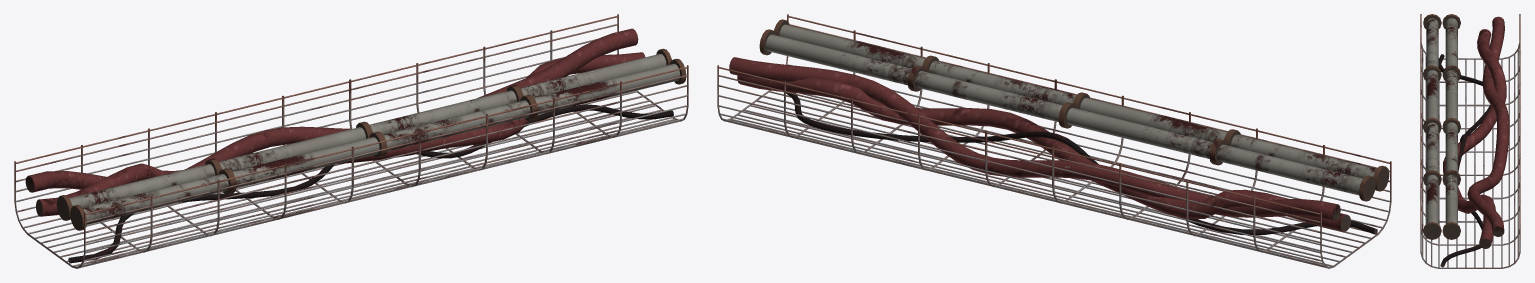
File: WallCables.fbx
3 renders of one model, left to right at view 1: azimuth 30°, elevation 25°; view 2: azimuth 150°, elevation 25°; view 3: azimuth 270°, elevation 25°, orthographic. The views are drawn at different scales.
Parts seen in each view (by area): view 1: Shape001; view 2: Shape001; view 3: Shape001.
Boxes of the visible parts, x1,y1,x2,y2 form: Shape001: (14,14,688,268); Shape001: (717,14,1391,268); Shape001: (1420,14,1520,268).
Bounding box in the file's own units: 381 × 38.56 × 77.07.
